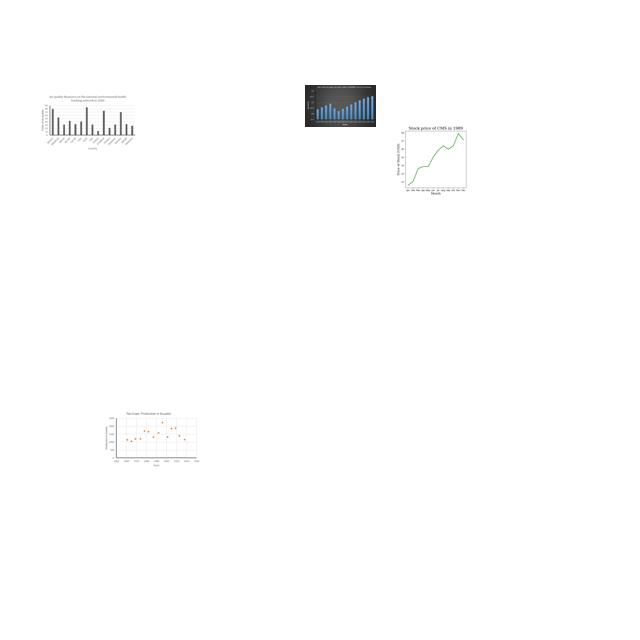Graph: (385, 122, 484, 196), (39, 94, 137, 152), (103, 411, 200, 468), (305, 85, 376, 127)
